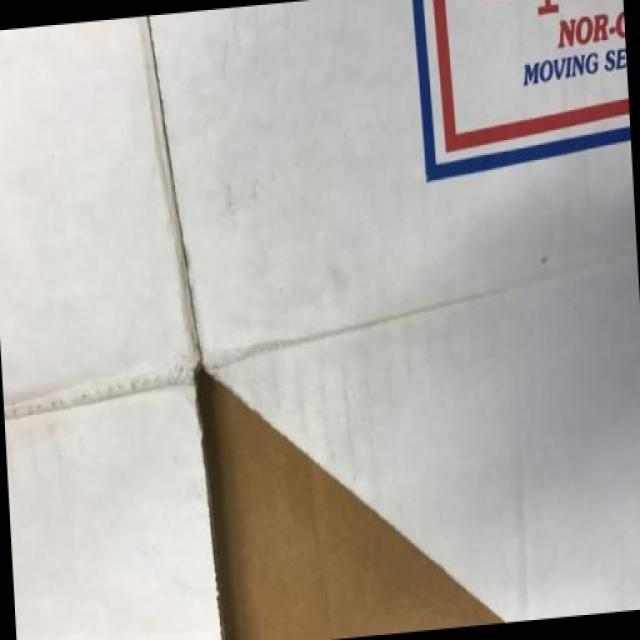carton: (21, 94, 372, 545)
